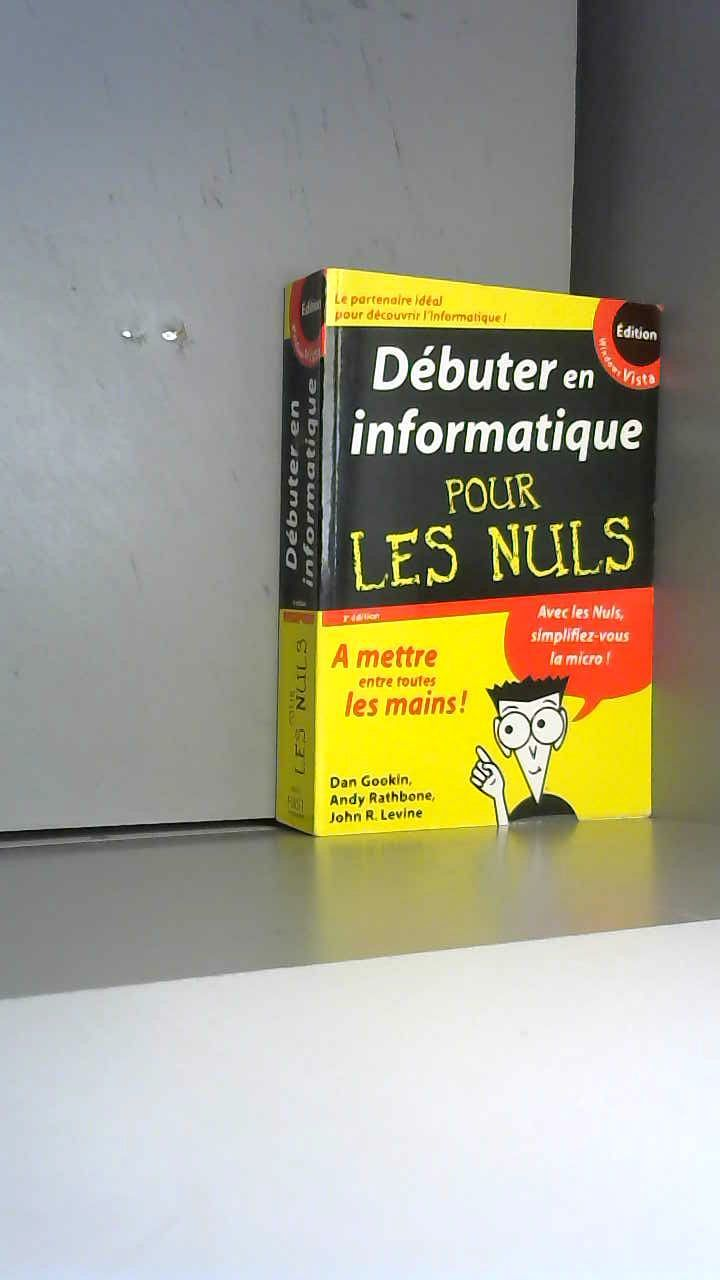book: (250, 240, 717, 911)
